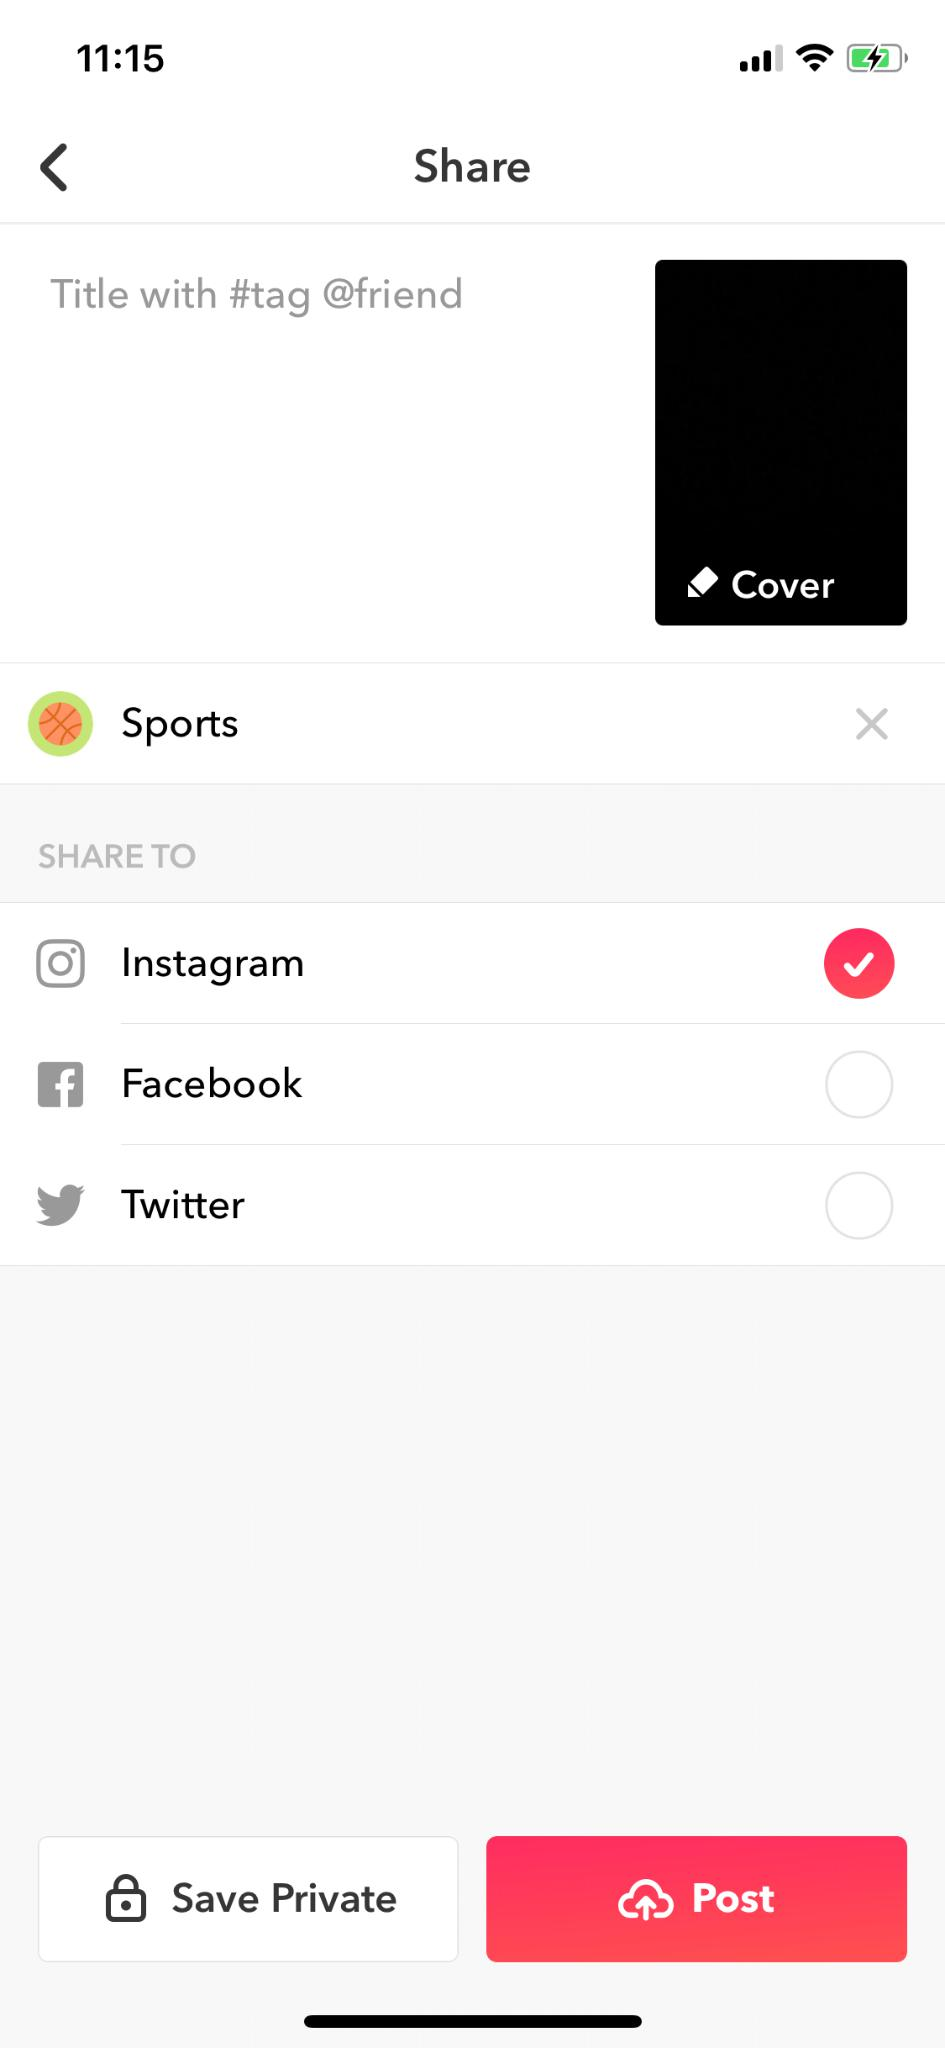Buttons: (489, 1838, 912, 1964), (40, 1838, 466, 1960), (21, 129, 90, 200), (843, 687, 895, 754)
Radio buttons: (23, 922, 902, 1010), (33, 1041, 899, 1125), (25, 1165, 898, 1243)
